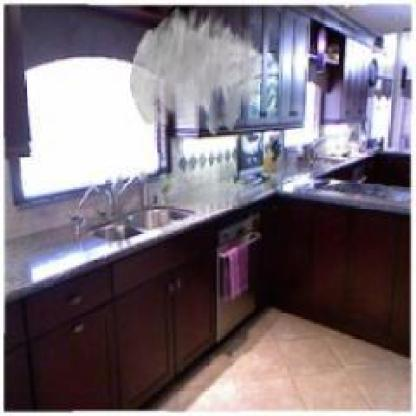Smoke: (130, 5, 262, 135)
